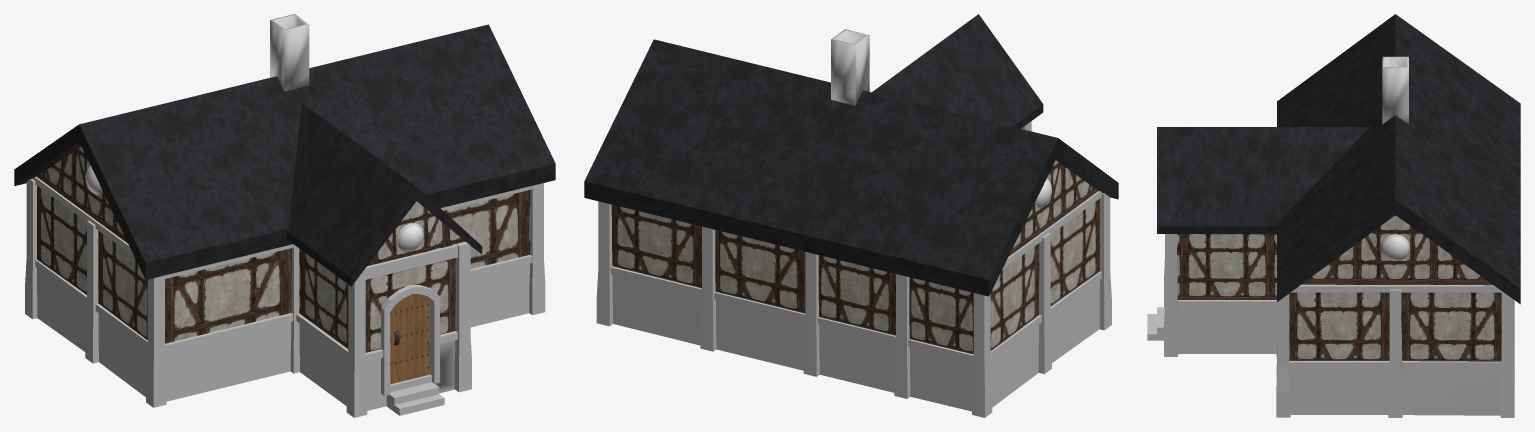
The model's file is Casa PuertaMedio.fbx.
3 renders of one model, left to right at view 1: azimuth 30°, elevation 25°; view 2: azimuth 150°, elevation 25°; view 3: azimuth 270°, elevation 25°, orthographic. The views are drawn at different scales.
Visible parts, largest first — view 1: CASA_PUERTA_MEDIO; view 2: CASA_PUERTA_MEDIO; view 3: CASA_PUERTA_MEDIO.
Part boxes in pixels (x1,y1,x2,y2): CASA_PUERTA_MEDIO: (14,14,555,417); CASA_PUERTA_MEDIO: (584,14,1118,417); CASA_PUERTA_MEDIO: (1147,14,1520,417).
Bounding box in the file's own units: 1260 × 846 × 1064.
